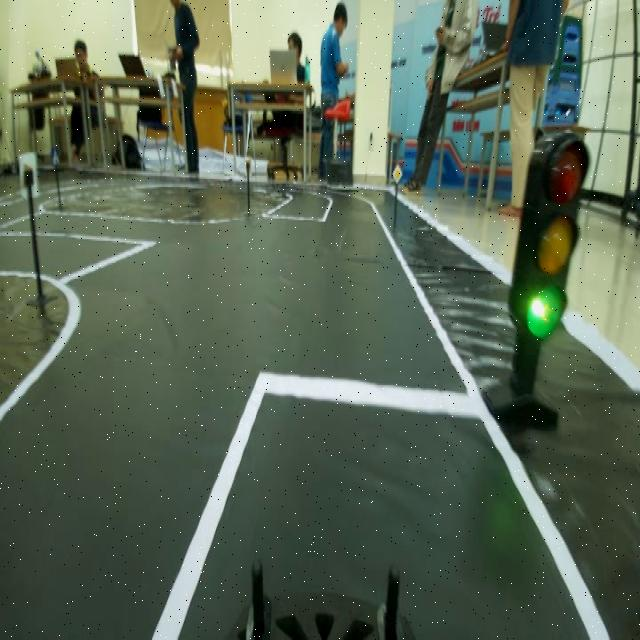trafficlight: (505, 122, 594, 360)
